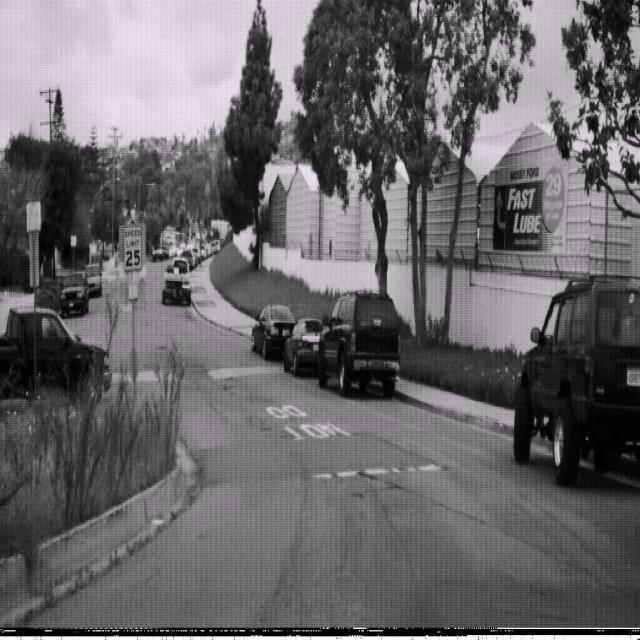speedLimit25: (122, 222, 143, 273)
